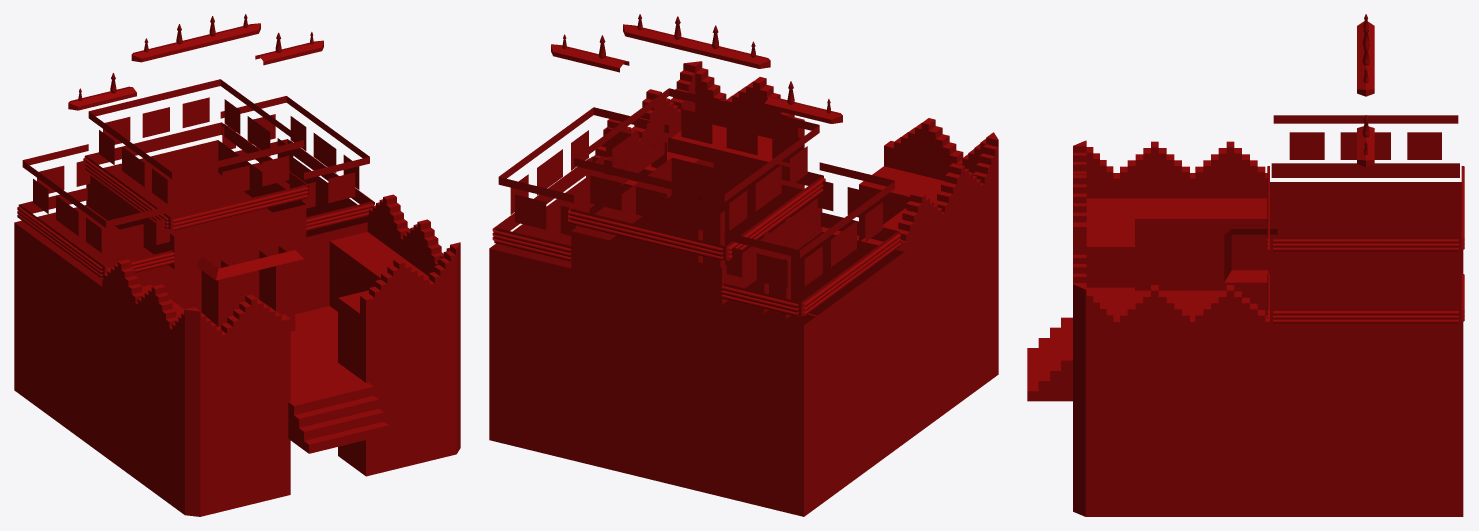
The model's file is maur_barracks_a_struct.dae.
3 views of the same model, side by side, from view 1: azimuth 30°, elevation 25°; view 2: azimuth 150°, elevation 25°; view 3: azimuth 270°, elevation 25° (orthographic). The views are drawn at different scales.
Visible parts, largest first — view 1: Circle; view 2: Circle; view 3: Circle.
Boxes of the visible parts, <box> form: Circle: <box>14,14,460,516</box>; Circle: <box>489,14,998,516</box>; Circle: <box>1027,14,1464,516</box>.
Bounding box in the file's own units: 15.3 × 18.96 × 19.54.
